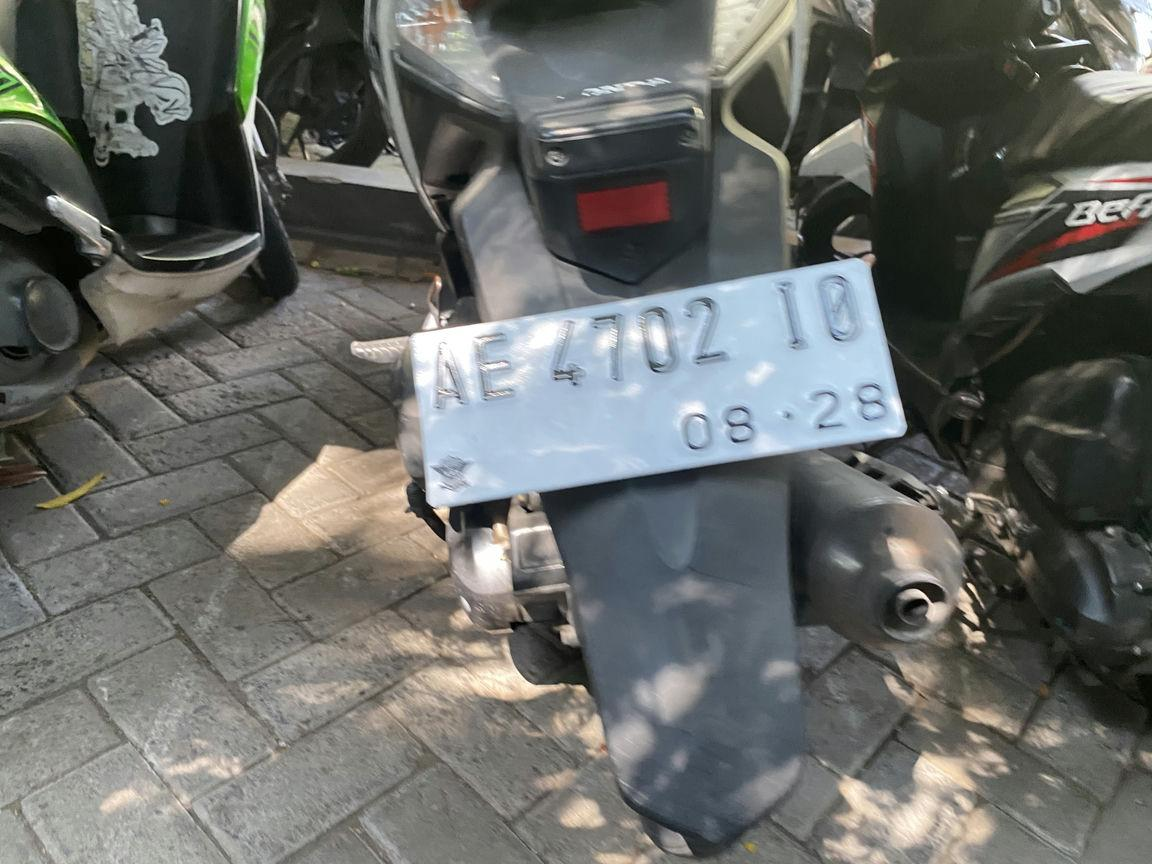plat: (407, 259, 904, 508)
